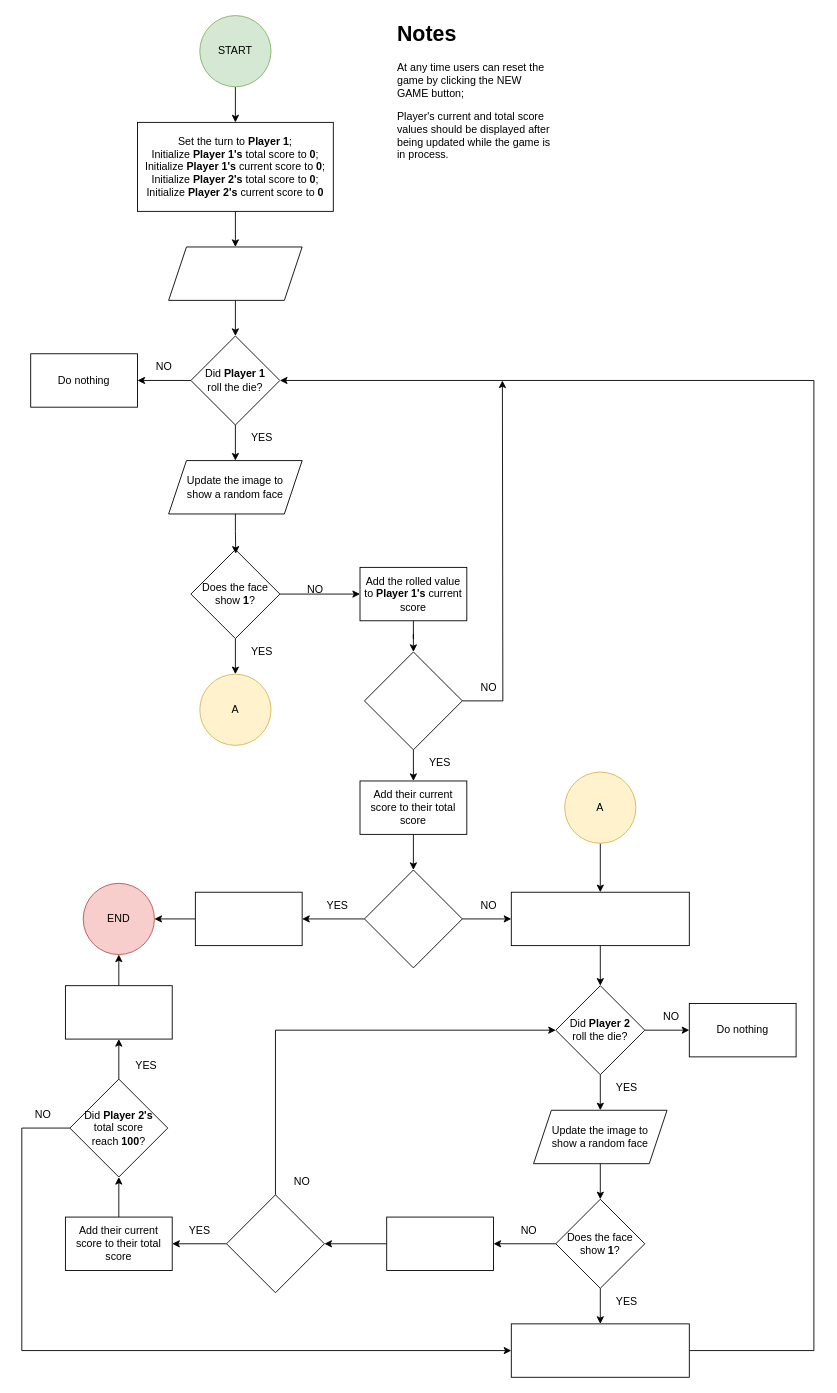
This 837x1393 diagram has some shape labels left out. Each missing label, with the centre of its shape:
"Add the rolled value to Player 2's current score" goes at point 440,1243.
"Declare Player 1 the winner" goes at point 248,918.
"Declare Player 2 the winner" goes at point 118,1012.
"Did Player 1's total score reach 100 ?" goes at point 413,918.
"Display the die with a face value of 5" goes at point 235,273.
"Does Player 1 choose to hold?" goes at point 413,700.
"Does Player 2 choose to hold?" goes at point 275,1243.
"Reset Player 1's current score to 0 ; Switch turns to Player 2" goes at point 599,918.
"Reset Player 2's current score to 0 ; Switch turns to Player 1" goes at point 599,1350.
